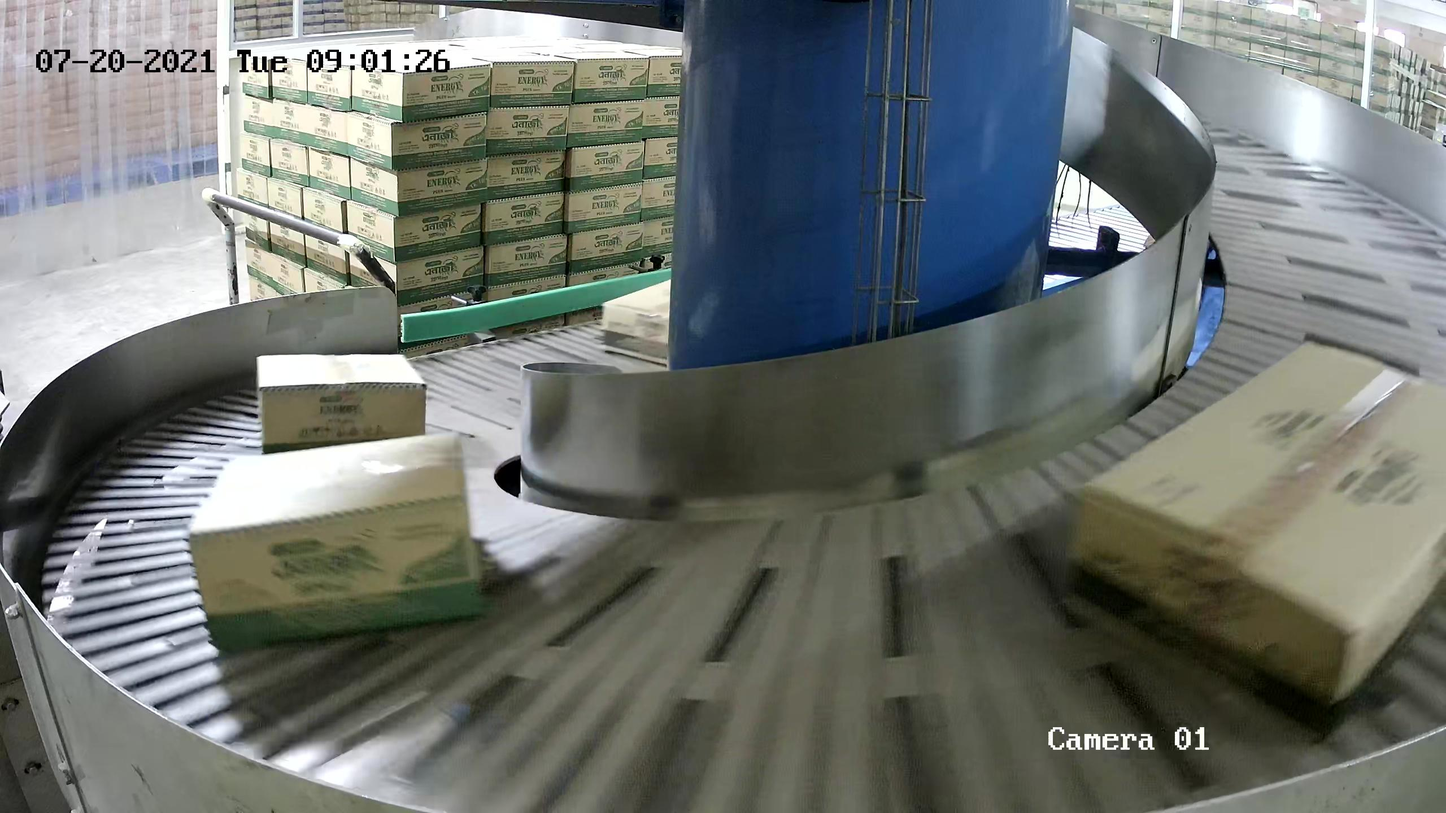Box: (1062, 333, 1446, 753), (186, 427, 487, 651), (254, 353, 429, 459), (601, 278, 673, 367)
